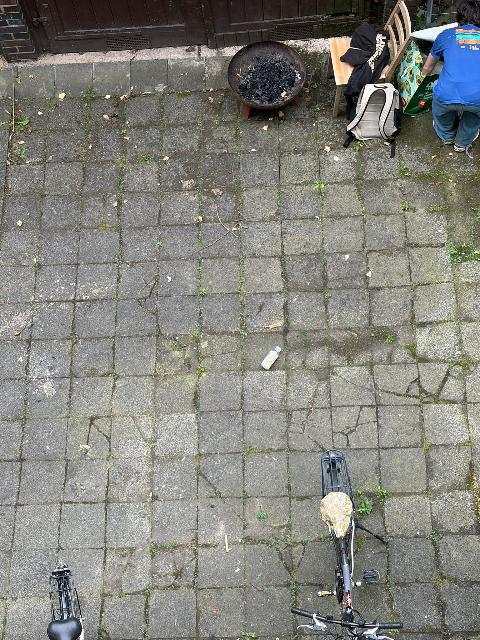plastic_bottle: (259, 346, 281, 372)
